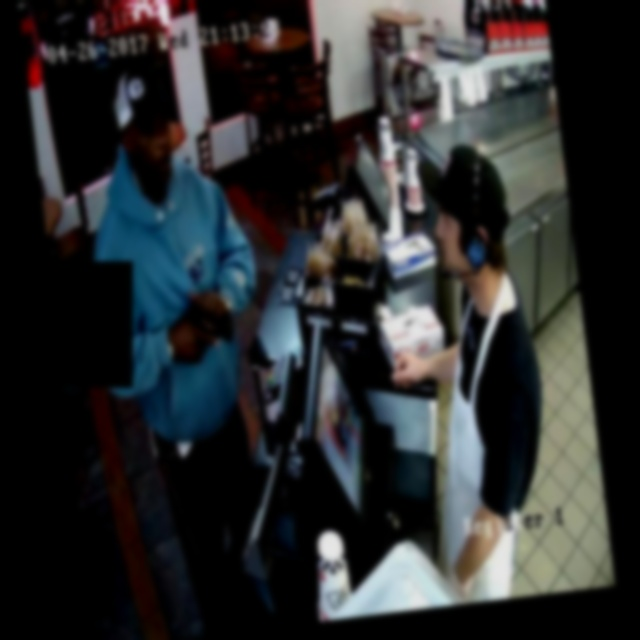gun: (166, 280, 252, 369)
